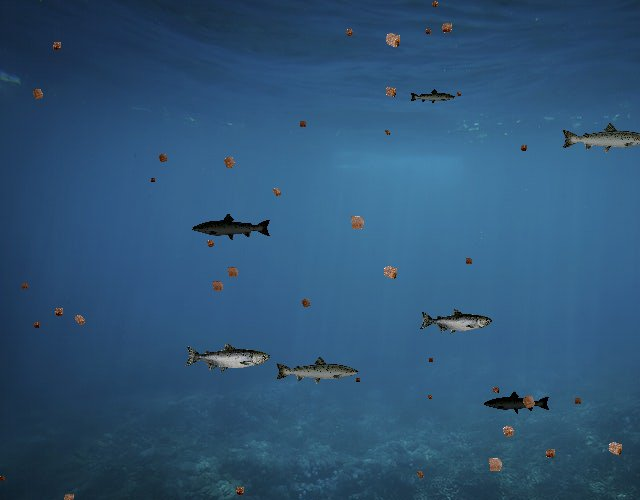Fish: (561, 121, 640, 155), (274, 355, 360, 386), (184, 342, 270, 373), (192, 213, 273, 242), (420, 309, 493, 335), (483, 391, 551, 415), (409, 88, 456, 105)
Pellet: (516, 389, 542, 415), (496, 419, 521, 444), (68, 309, 90, 331), (488, 383, 502, 397), (516, 141, 530, 155), (422, 25, 435, 38)
